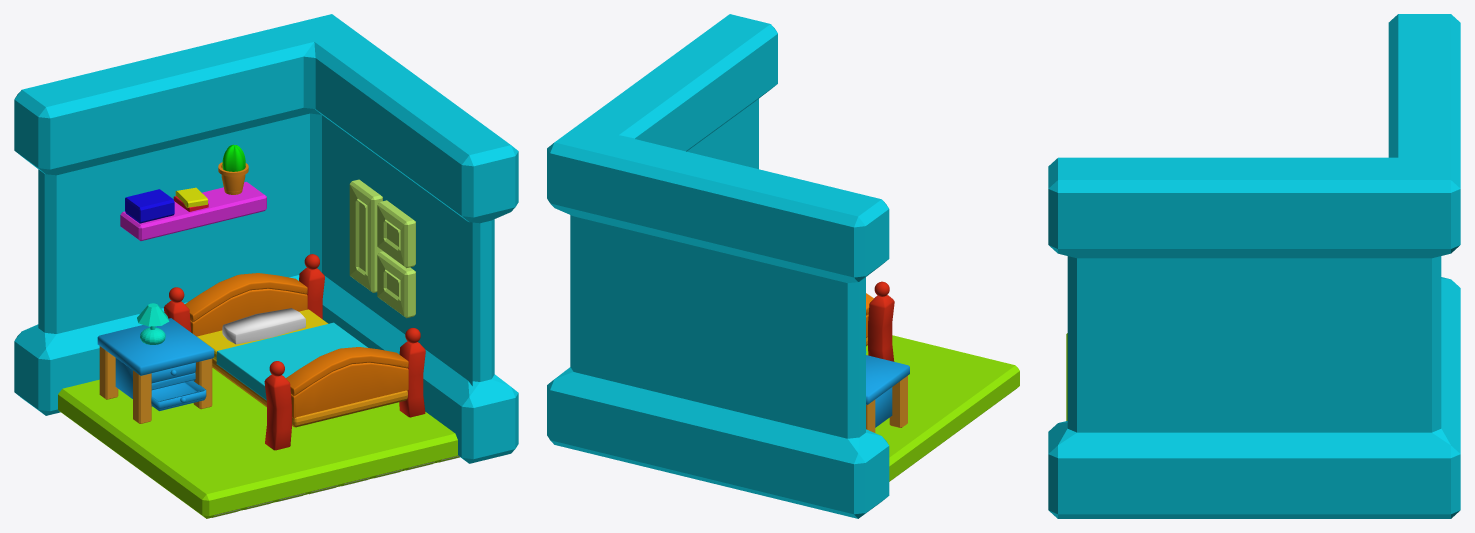
File: first_room.glb
3 renders of one model, left to right at view 1: azimuth 30°, elevation 25°; view 2: azimuth 150°, elevation 25°; view 3: azimuth 270°, elevation 25°, orthographic. The views are drawn at different scales.
Visible parts, largest first — view 1: Cube, Plane, Plane.004, Cube.001, Plane.009, Plane.005, Plane.007, Cube.003, Plane.010, Plane.008, Plane.002, Cube.006 (+3 smaller); view 2: Cube, Plane, Plane.009, Plane.005, Plane.010; view 3: Cube.
Boxes of the visible parts, x1,y1,x2,y2 form: Cube: (14,14,518,463); Plane: (58,368,459,518); Plane.004: (185,273,408,418); Cube.001: (349,179,415,318); Plane.009: (97,318,214,411); Plane.005: (164,254,425,450); Plane.007: (216,322,367,400); Cube.003: (120,181,266,240); Plane.010: (99,346,212,423); Plane.008: (222,308,305,344); Plane.002: (212,358,407,427); Cube.006: (125,189,174,223); Cube: (547,14,889,518); Plane: (866,335,1019,481); Plane.009: (866,355,909,427); Plane.005: (868,281,894,361); Plane.010: (866,375,907,432); Cube: (1048,14,1460,518).
Size of what is drawn, in the model's own units: 2.21 by 2 by 2.21.
